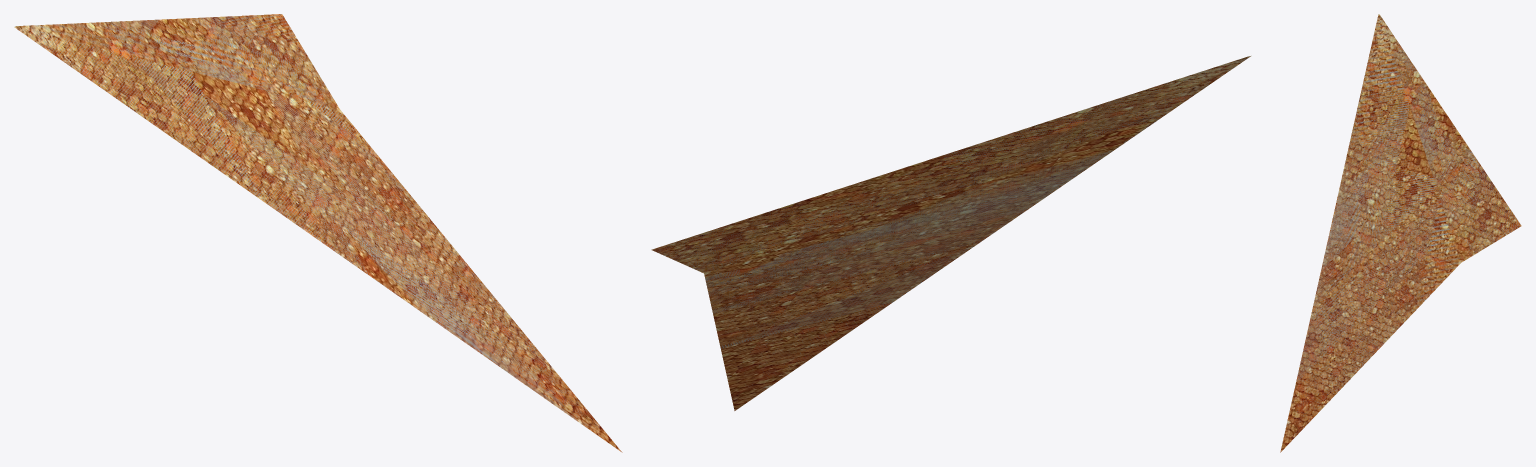
The model's file is 西庸城堡367.dae.
The picture shows the model from 3 angles, left to right: view 1: azimuth 30°, elevation 25°; view 2: azimuth 150°, elevation 25°; view 3: azimuth 270°, elevation 25°; orthographic projection. The views are drawn at different scales.
Parts seen in each view (by area): view 1: SketchUp; view 2: SketchUp; view 3: SketchUp.
Part boxes in pixels (x1=…): SketchUp: x1=14, y1=14, x2=622, y2=452; SketchUp: x1=651, y1=56, x2=1250, y2=410; SketchUp: x1=1280, y1=14, x2=1521, y2=452.
Size of the model in its own units: 307 by 208 by 275.
